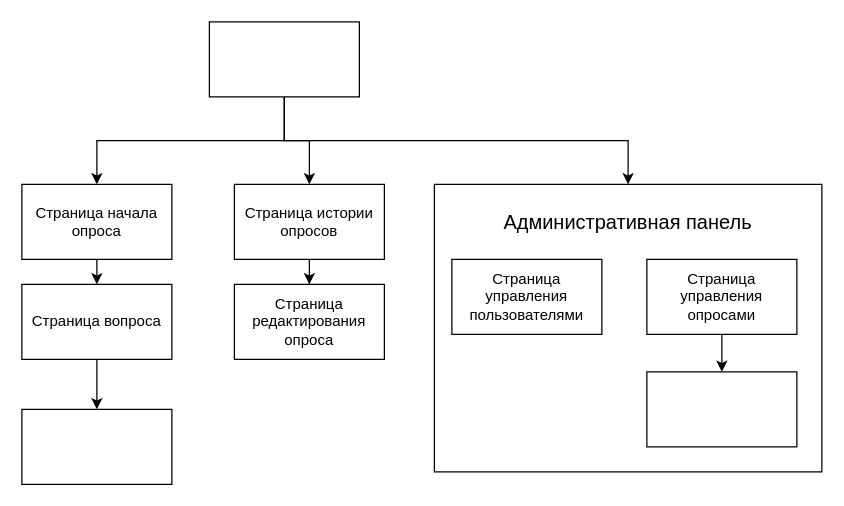
Image size: 844x506. Some labels were removed from this diagram. Each missing label, with the centre of its shape:
Авторизация: the point at 283,59
Конструктор опросов: the point at 721,409
Страница сохранения: the point at 96,446
